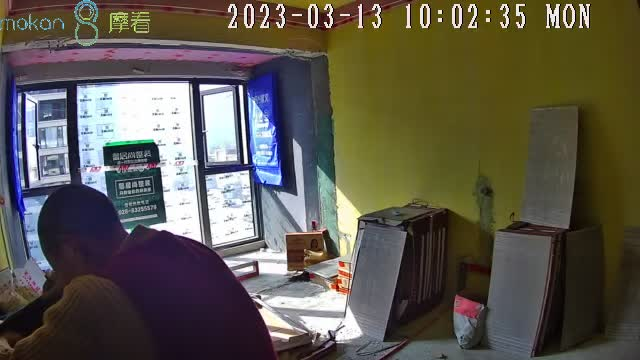people: (1, 184, 277, 360)
window: (12, 80, 262, 274)
